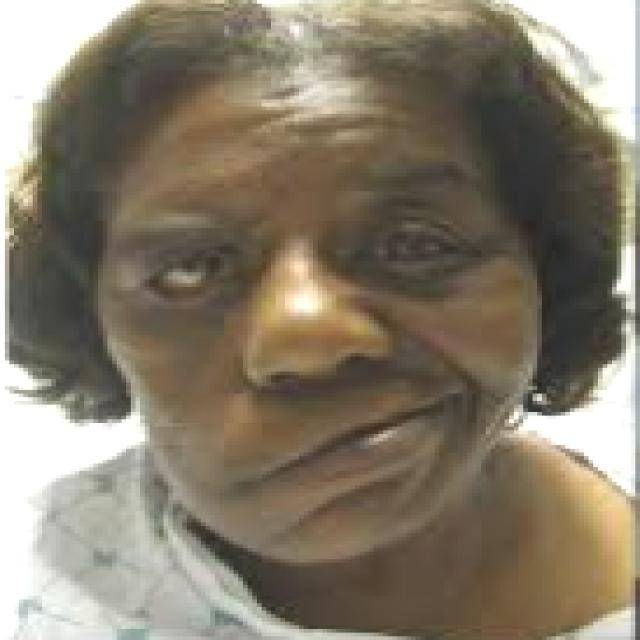stroke_face: (29, 40, 622, 621)
